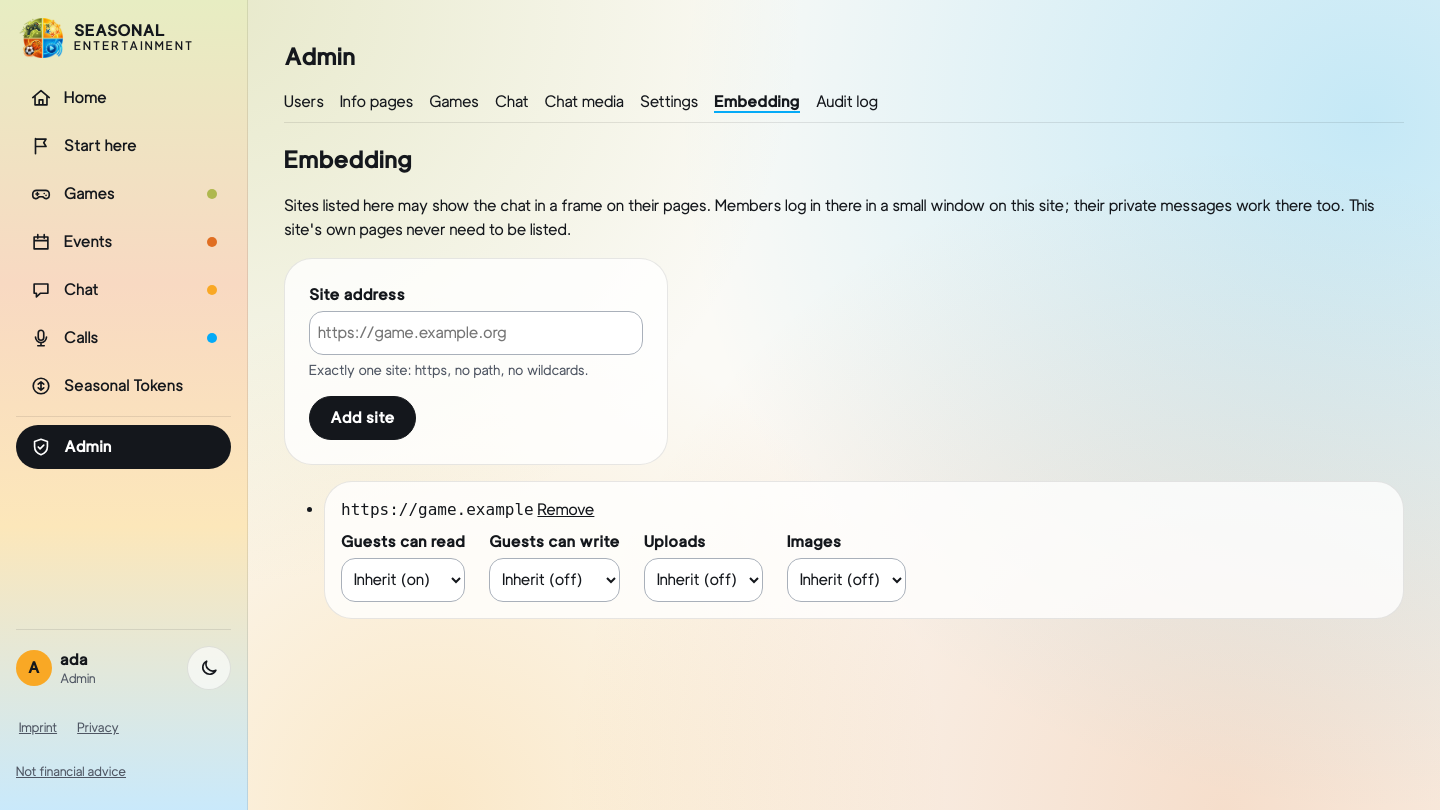
Scenario: sets a site's own rule for guests: inherit (showing the global value), on or off
Select "On" in the dropdown labelled "Guests can write" at [555, 580], box [489,558,620,602]
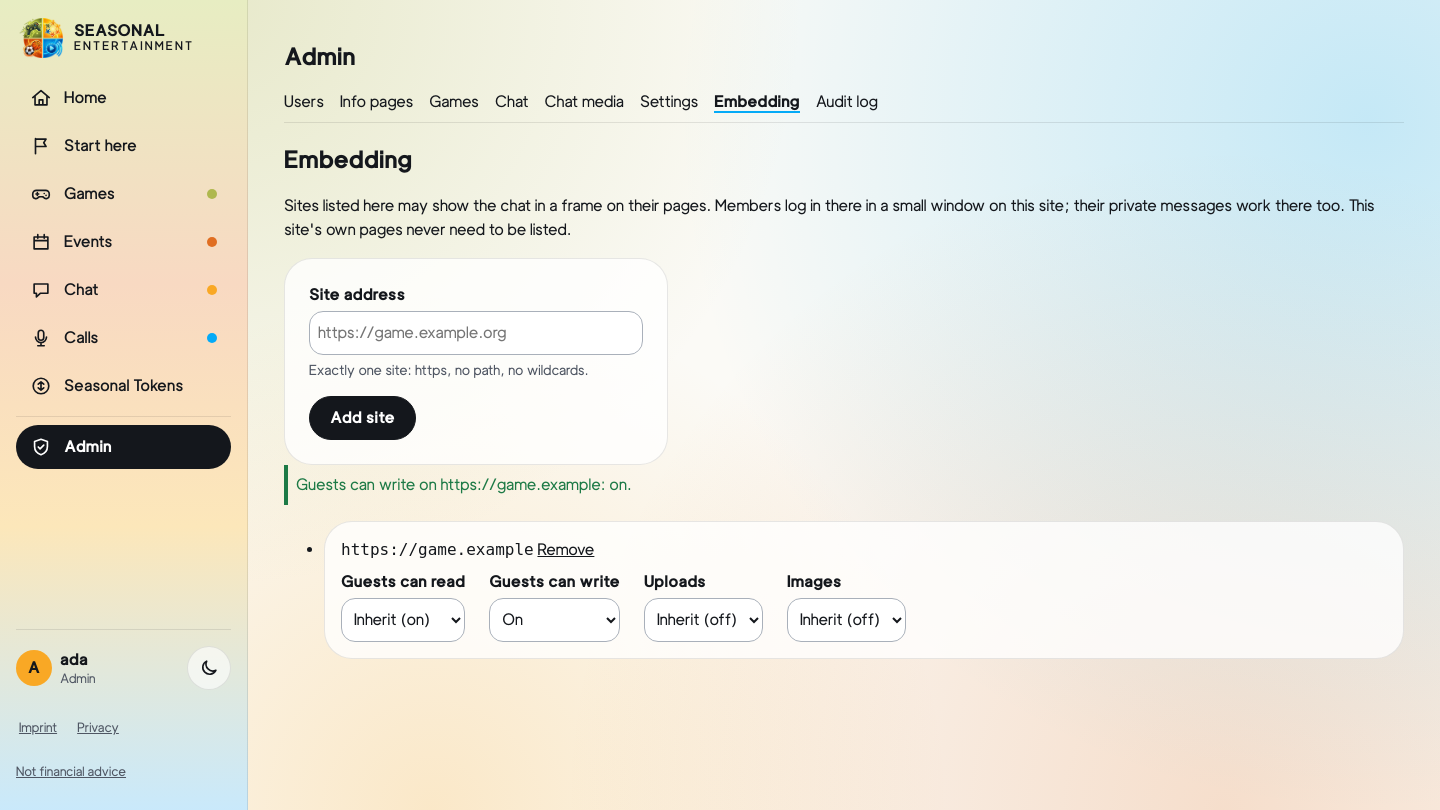
Expected: the text "Guests can write on https://game.example: on." is shown, [284,464,1404,504]
